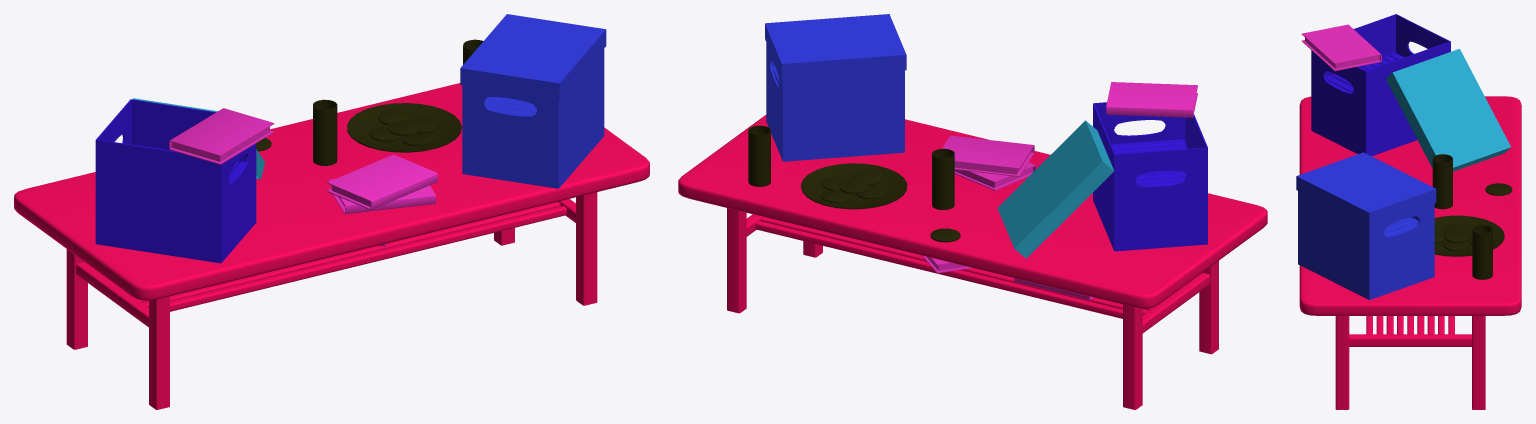
File: Coffee Table Export.FBX
The picture shows the model from 3 angles, left to right: view 1: azimuth 30°, elevation 25°; view 2: azimuth 150°, elevation 25°; view 3: azimuth 270°, elevation 25°; orthographic projection. The views are drawn at different scales.
Parts seen in each view (by area): view 1: Low Poly Table Top, Low Poly Box, Low Poly Box001, Low Poly Table Shelf Beam 009, Low Poly Book Closed Cover001, Low Poly Book Closed Cover002, Plate, Low Poly Table Leg 002, Low Poly Table Shelf Beam 008, Low Poly Table Leg 001, Low Poly Table Leg 003, Glass001 (+2 smaller); view 2: Low Poly Table Top, Low Poly Box, Low Poly Box001, Low Poly Box Top001, Low Poly Table Shelf Beam 001, Low Poly Book Closed Cover002, Low Poly Book Closed Cover001, Plate, Low Poly Table Leg 003, Low Poly Table Leg 004, Low Poly Table Shelf Beam 002, Low Poly Table Leg 001 (+4 smaller); view 3: Low Poly Table Top, Low Poly Box, Low Poly Box001, Low Poly Box Top001, Low Poly Book Closed Cover002, Low Poly Table Beam 002, Low Poly Table Leg 002, Low Poly Table Leg 004, Plate, Glass002, Glass001, Cookei005 (+2 smaller).
Boxes of the visible parts, x1,y1,x2,y2 form: Low Poly Table Top: (14, 83, 649, 300); Low Poly Box: (460, 14, 606, 188); Low Poly Box001: (95, 99, 256, 263); Low Poly Table Shelf Beam 009: (148, 206, 566, 311); Low Poly Book Closed Cover001: (327, 154, 437, 209); Low Poly Book Closed Cover002: (169, 108, 274, 164); Plate: (347, 103, 461, 152); Low Poly Table Leg 002: (576, 192, 597, 305); Low Poly Table Shelf Beam 008: (142, 201, 560, 306); Low Poly Table Leg 001: (149, 296, 169, 409); Low Poly Table Leg 003: (66, 249, 87, 349); Glass001: (313, 99, 337, 165); Low Poly Table Top: (678, 115, 1267, 308); Low Poly Box: (765, 14, 906, 161); Low Poly Box001: (1093, 102, 1207, 251); Low Poly Box Top001: (997, 120, 1113, 258); Low Poly Table Shelf Beam 001: (755, 220, 1122, 318); Low Poly Book Closed Cover002: (1106, 82, 1197, 117); Low Poly Book Closed Cover001: (942, 135, 1034, 176); Plate: (800, 163, 907, 209); Low Poly Table Leg 003: (1123, 304, 1142, 409); Low Poly Table Leg 004: (727, 208, 746, 313); Low Poly Table Shelf Beam 002: (761, 217, 1148, 314); Low Poly Table Leg 001: (1199, 261, 1218, 354); Low Poly Table Top: (1299, 96, 1521, 315); Low Poly Box: (1296, 152, 1436, 299); Low Poly Box001: (1311, 14, 1450, 156); Low Poly Box Top001: (1386, 48, 1510, 171); Low Poly Book Closed Cover002: (1301, 24, 1381, 70); Low Poly Table Beam 002: (1349, 334, 1471, 346); Low Poly Table Leg 002: (1335, 316, 1349, 409); Low Poly Table Leg 004: (1472, 316, 1485, 409); Plate: (1434, 215, 1504, 256); Glass002: (1472, 225, 1492, 279); Glass001: (1432, 154, 1452, 209); Cookei005: (1443, 230, 1470, 242).
Bounding box in the file's own units: 145 × 69.52 × 65.96.
